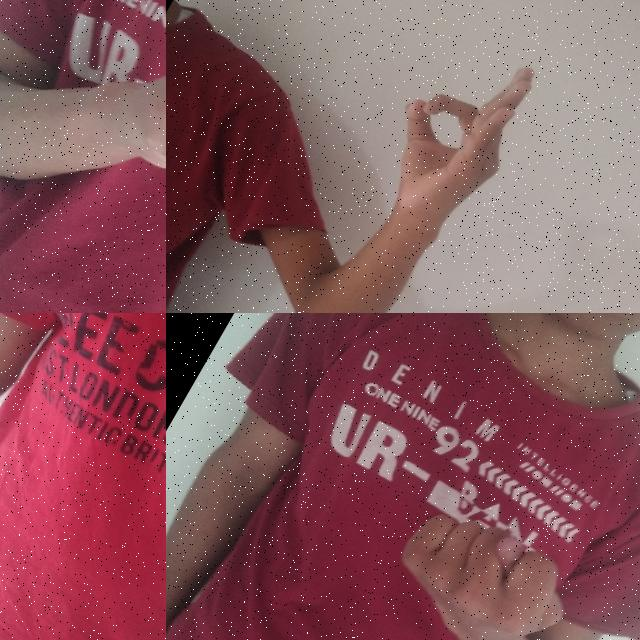Dulya: (368, 483, 604, 640), (70, 0, 166, 279)
Middle Finger: (121, 313, 166, 565)
Okay: (340, 16, 560, 270)
